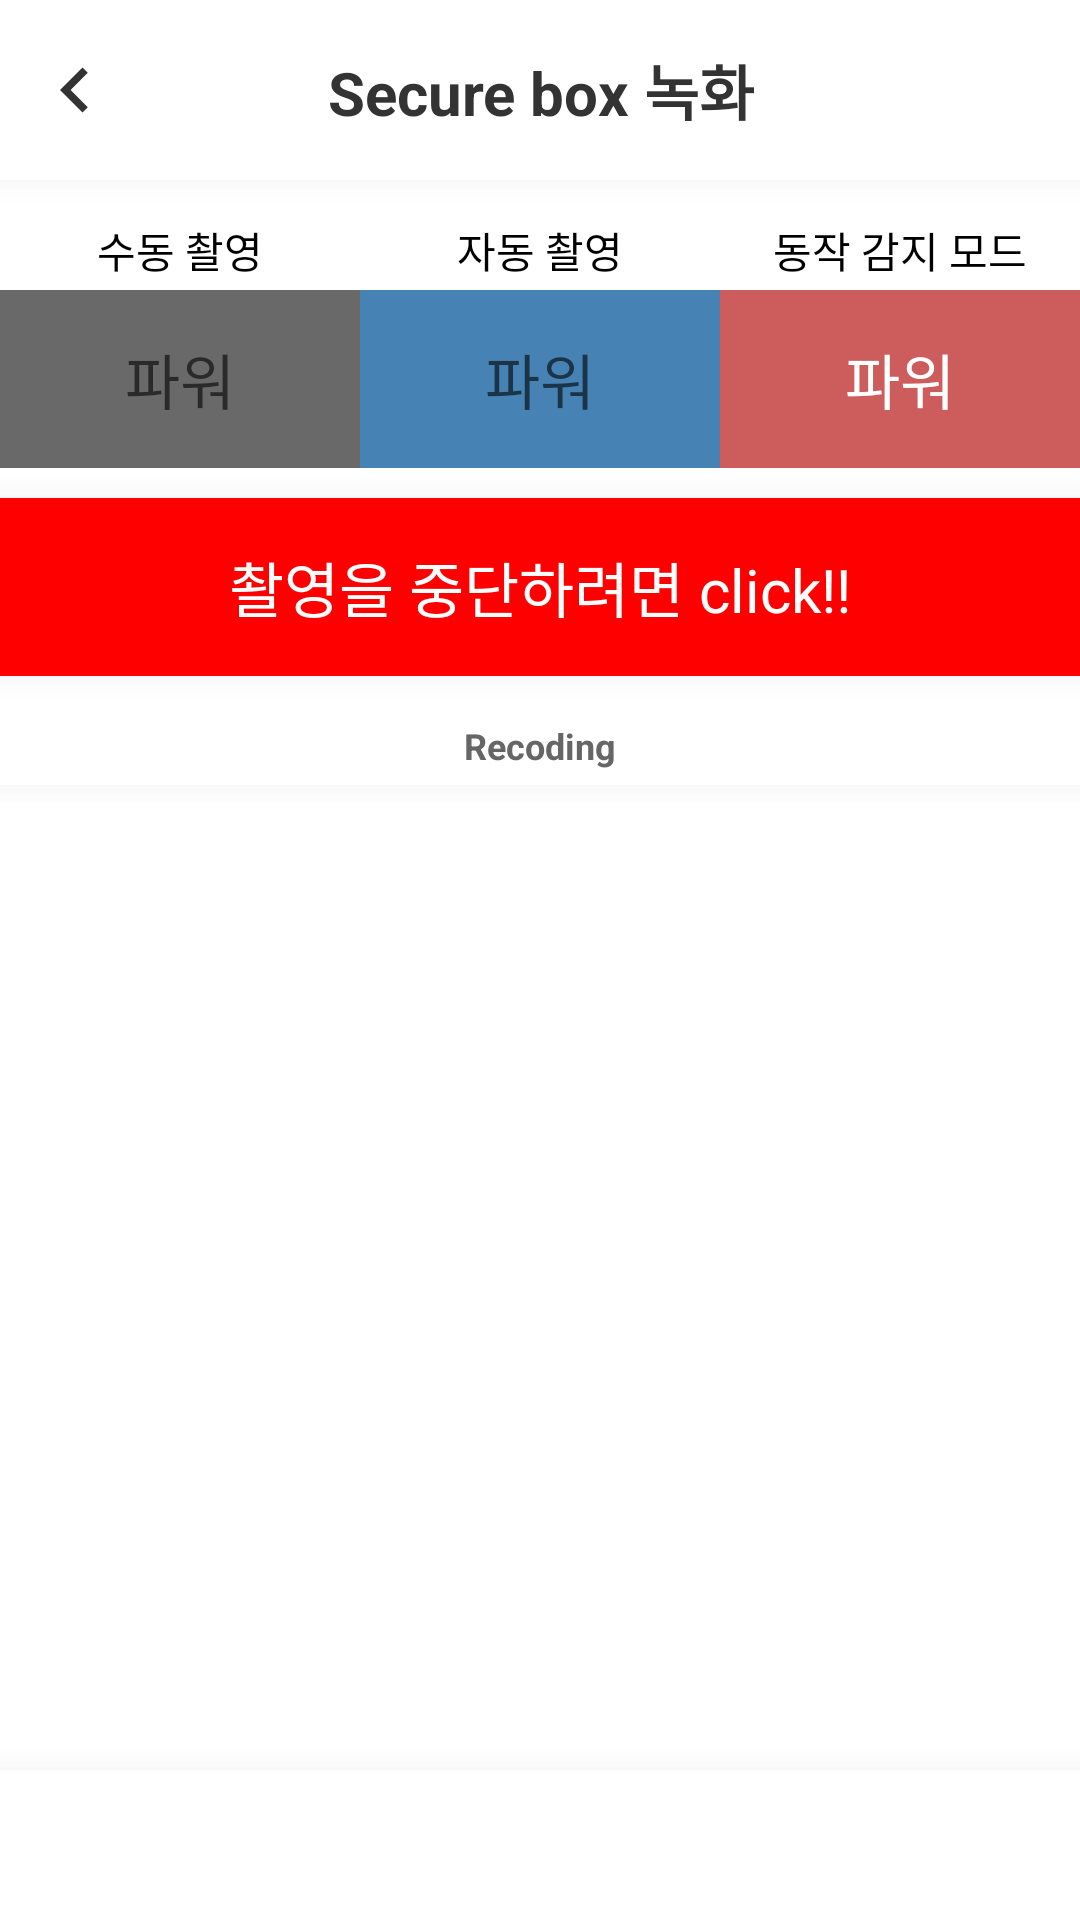

Where to tap for icons on this 1080*1920 app screen, as [x,y]:
arrow back: [74,90]
